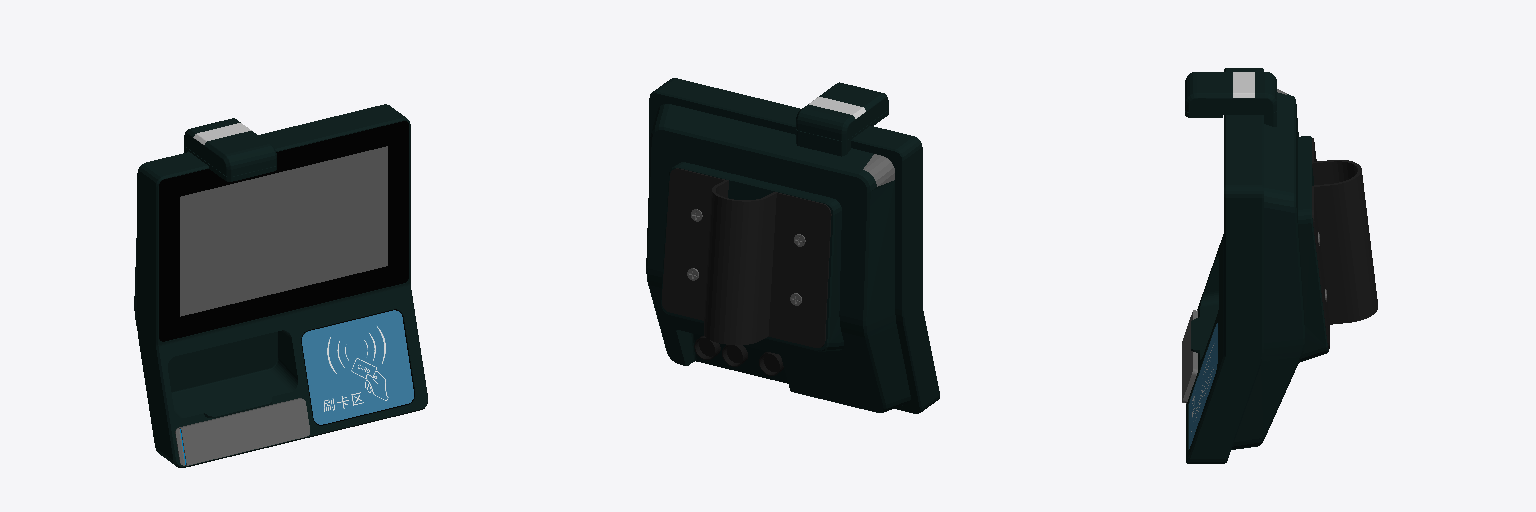
3 renders of one model, left to right at view 1: azimuth 30°, elevation 25°; view 2: azimuth 150°, elevation 25°; view 3: azimuth 270°, elevation 25°, orthographic.
Visible parts, largest first — view 1: 本体, 支付宝广告外壳; view 2: 本体, 连接处, 接口; view 3: 本体, 连接处, 支付宝广告外壳.
Part boxes in pixels (bbox=[...]): 本体: bbox=[134, 104, 427, 467]; 支付宝广告外壳: bbox=[175, 398, 309, 465]; 本体: bbox=[646, 78, 939, 413]; 连接处: bbox=[662, 168, 831, 347]; 接口: bbox=[694, 336, 783, 375]; 本体: bbox=[1185, 68, 1328, 463]; 连接处: bbox=[1312, 138, 1377, 348]; 支付宝广告外壳: bbox=[1182, 310, 1197, 403].
Bounding box in the file's own units: 2.88 × 3.22 × 1.93.
9 materials, 2 textured.